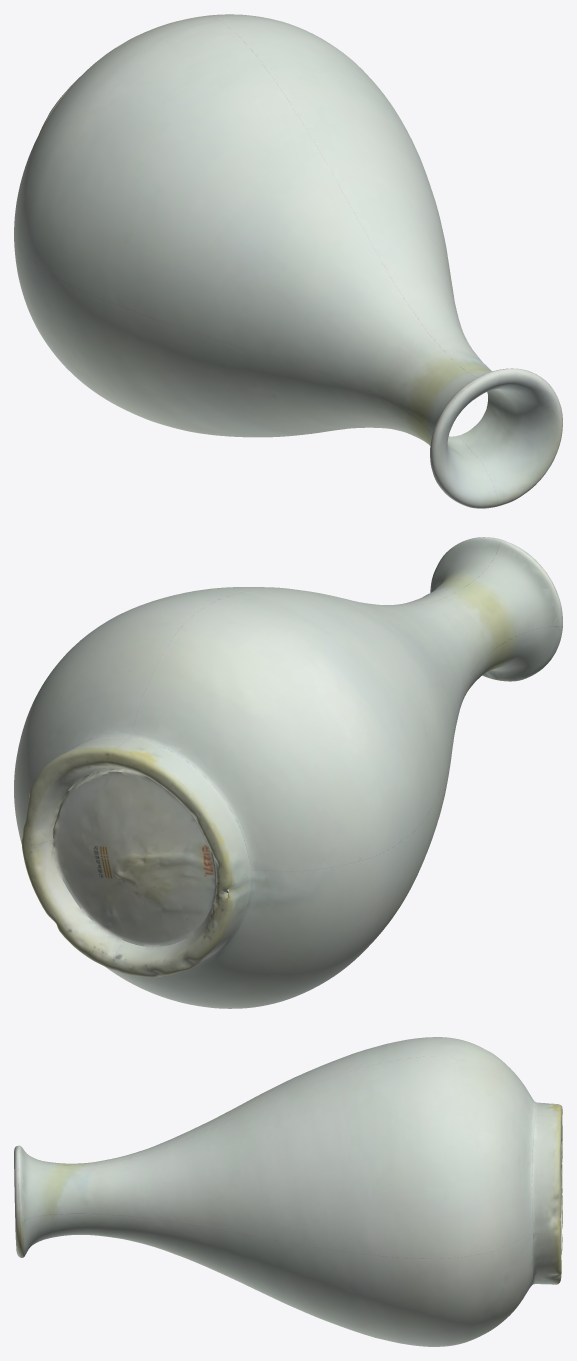
Rendered from baekja-bottle.glb.
The picture shows the model from 3 angles, top to bottom: view 1: azimuth 30°, elevation 25°; view 2: azimuth 150°, elevation 25°; view 3: azimuth 270°, elevation 25°; orthographic projection. The views are drawn at different scales.
Visible parts, largest first — view 1: ssu012371-000-30000; view 2: ssu012371-000-30000; view 3: ssu012371-000-30000.
Boxes of the visible parts, bbox=[...] form: ssu012371-000-30000: bbox=[14, 14, 562, 508]; ssu012371-000-30000: bbox=[14, 537, 562, 1008]; ssu012371-000-30000: bbox=[14, 1037, 562, 1346].
Bounding box in the file's own units: 196 × 196 × 347.
1 material, 1 textured.
